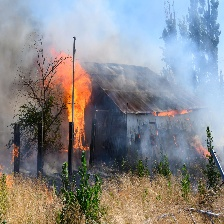fire: (46, 52, 91, 152), (152, 108, 192, 118), (193, 142, 212, 160)
smoke: (1, 1, 221, 179), (1, 3, 39, 139), (10, 144, 20, 163)
